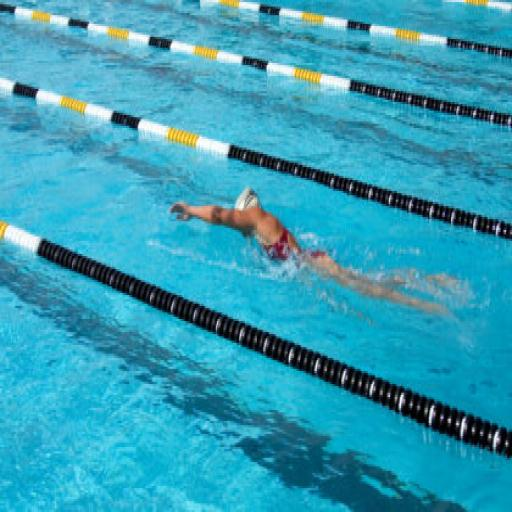swimming: (167, 182, 475, 328)
